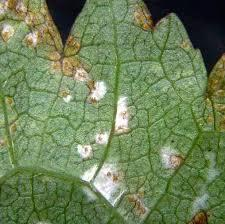Bok-Choy-Diseased: (0, 1, 225, 224)
